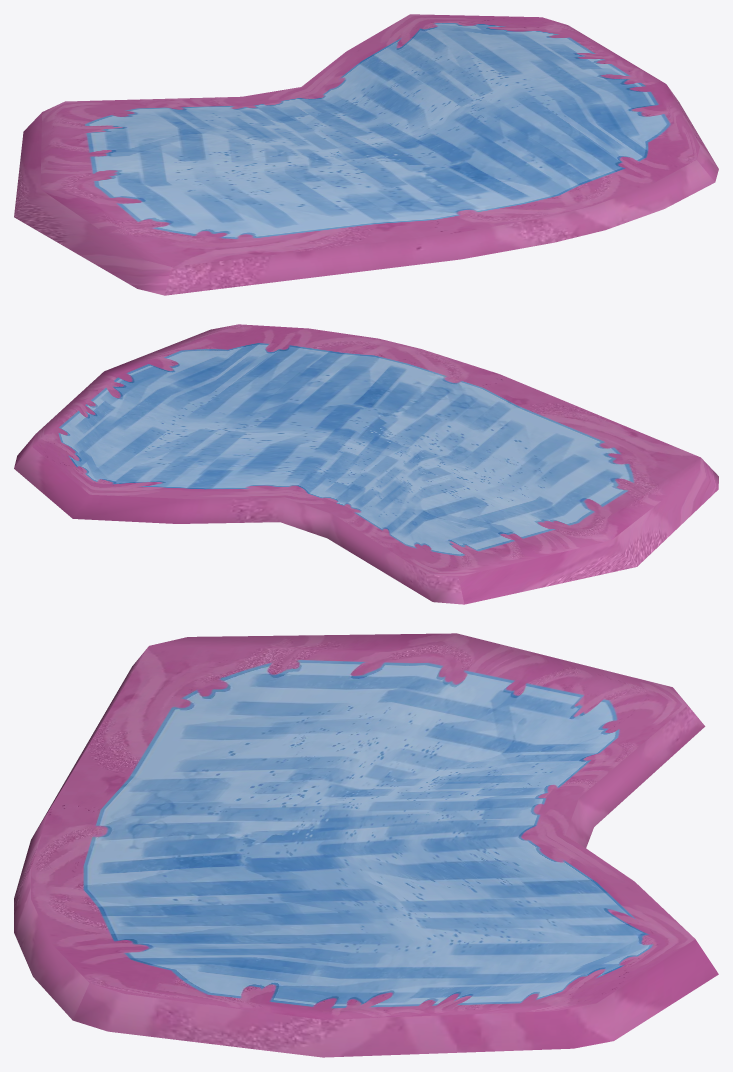
File: path-01.glb
The picture shows the model from 3 angles, top to bottom: view 1: azimuth 30°, elevation 25°; view 2: azimuth 150°, elevation 25°; view 3: azimuth 270°, elevation 25°; orthographic projection. The views are drawn at different scales.
Parts seen in each view (by area): view 1: Path_01_Art; view 2: Path_01_Art; view 3: Path_01_Art.
Part boxes in pixels (bbox=[...]): Path_01_Art: bbox=[14, 14, 718, 295]; Path_01_Art: bbox=[14, 324, 718, 604]; Path_01_Art: bbox=[14, 633, 718, 1057].
Bounding box in the file's own units: 6.33 × 0.2078 × 4.57.
Materials: 1 (1 with a texture image).
